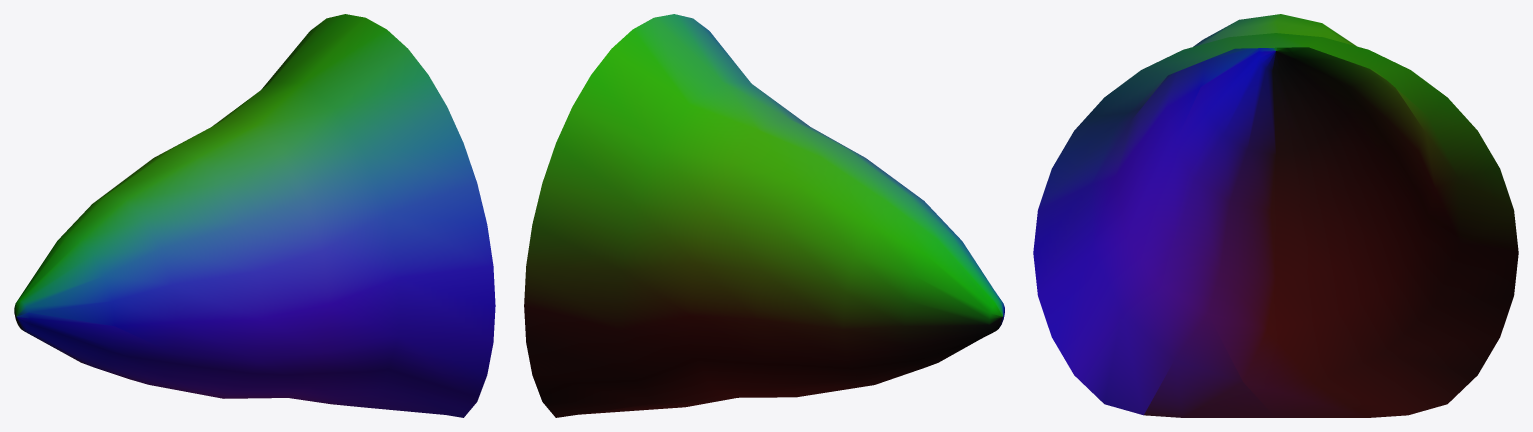
File: uni_wormhole_outer.fbx
3 views of the same model, side by side, from view 1: azimuth 30°, elevation 25°; view 2: azimuth 150°, elevation 25°; view 3: azimuth 270°, elevation 25° (orthographic). The views are drawn at different scales.
Visible parts, largest first — view 1: uni_wormhole_outer; view 2: uni_wormhole_outer; view 3: uni_wormhole_outer.
Boxes of the visible parts, <box> form: uni_wormhole_outer: <box>14,14,495,417</box>; uni_wormhole_outer: <box>524,14,1004,417</box>; uni_wormhole_outer: <box>1033,14,1518,417</box>.
Size of the model in its own units: 25600 by 25200 by 22591.
